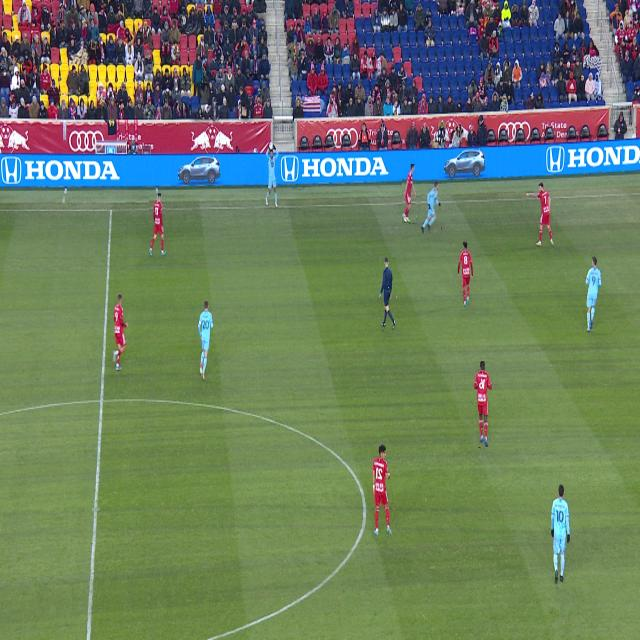player: (551, 484, 570, 584), (525, 183, 554, 246), (372, 445, 392, 536), (475, 361, 491, 447), (198, 300, 213, 380), (113, 293, 128, 370), (586, 256, 601, 332), (422, 182, 441, 234), (458, 242, 473, 307), (150, 194, 165, 256), (403, 164, 416, 223)
referee: (380, 258, 396, 330)
